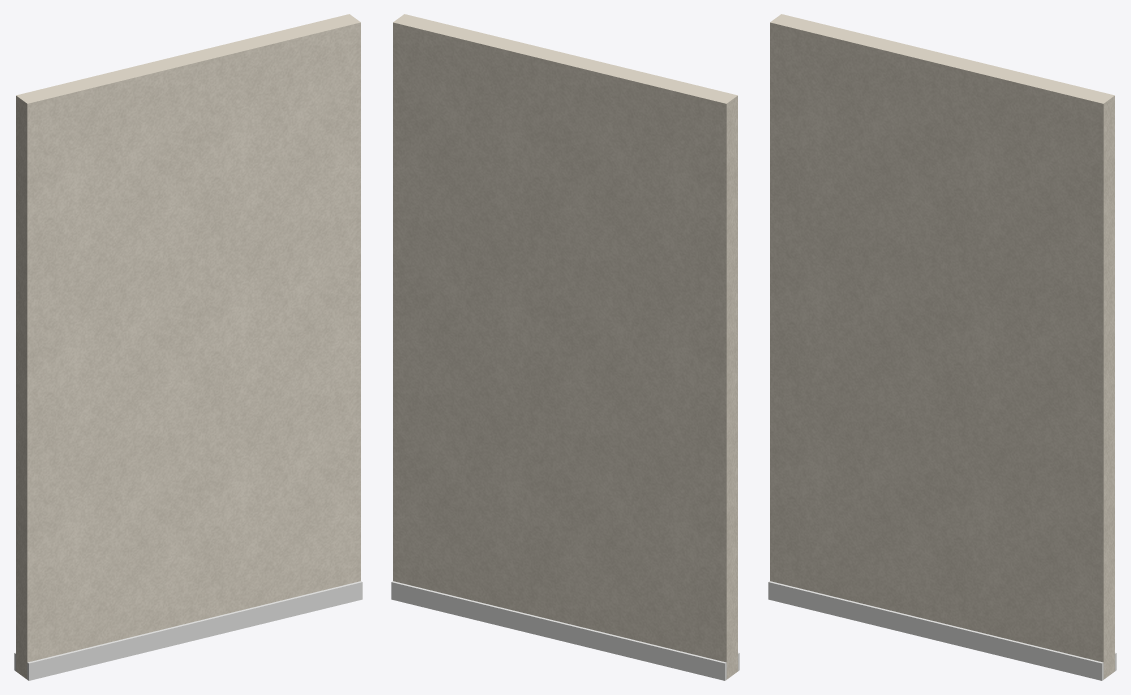
File: interior_wall_plain.glb
The picture shows the model from 3 angles, left to right: view 1: azimuth 30°, elevation 25°; view 2: azimuth 150°, elevation 25°; view 3: azimuth 330°, elevation 25°; orthographic projection.
Parts seen in each view (by area): view 1: interior_wall_plain_plaster, interior_wall_plain_trim; view 2: interior_wall_plain_plaster, interior_wall_plain_trim; view 3: interior_wall_plain_plaster, interior_wall_plain_trim.
Boxes of the visible parts, <box> form: interior_wall_plain_plaster: <box>16,14,360,679</box>; interior_wall_plain_trim: <box>14,581,362,680</box>; interior_wall_plain_plaster: <box>393,14,737,679</box>; interior_wall_plain_trim: <box>391,581,739,680</box>; interior_wall_plain_plaster: <box>770,14,1114,679</box>; interior_wall_plain_trim: <box>768,581,1116,680</box>.
Bounding box in the file's own units: 2 × 3.3 × 0.15.
2 materials, 1 textured.
